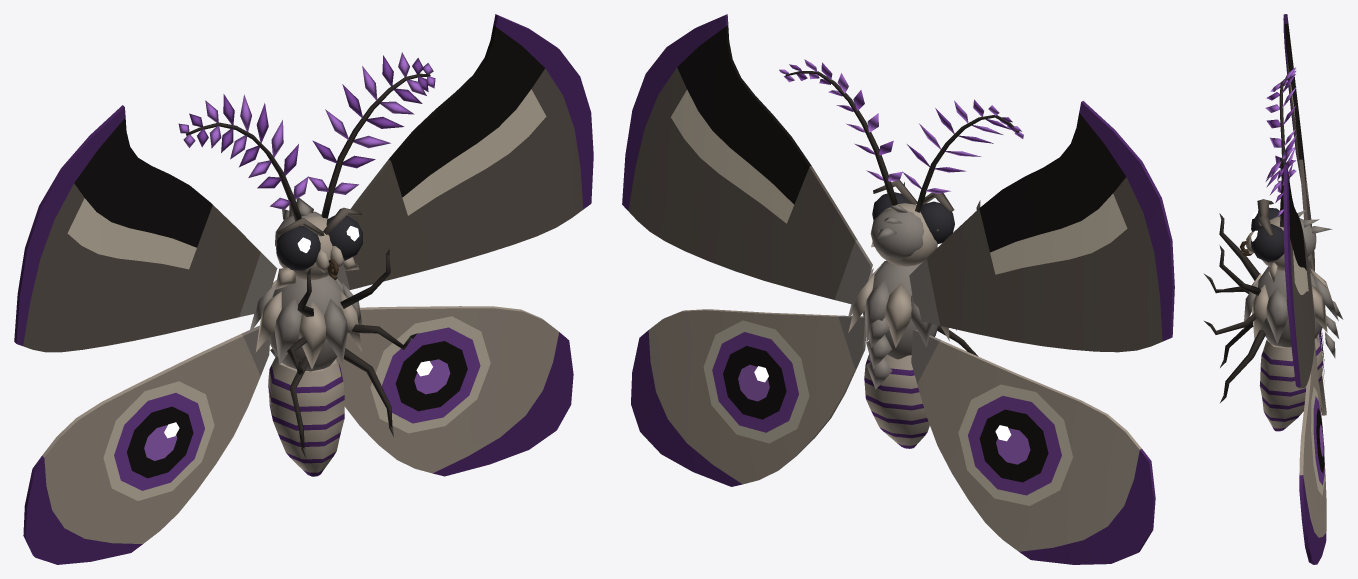
The model's file is moth-owl-wing.glb.
3 views of the same model, side by side, from view 1: azimuth 30°, elevation 25°; view 2: azimuth 150°, elevation 25°; view 3: azimuth 270°, elevation 25° (orthographic). The views are drawn at different scales.
Parts seen in each view (by area): view 1: glide_wing_0, glide_wing_1, body, pulse_abdomen, sway_feeler_l, sway_feeler_r, turn_head, blink_eye_r, blink_eye_l; view 2: glide_wing_1, glide_wing_0, body, pulse_abdomen, turn_head, sway_feeler_l, sway_feeler_r, blink_eye_r; view 3: glide_wing_0, body, pulse_abdomen, glide_wing_1, turn_head, sway_feeler_r, blink_eye_l, sway_feeler_l, blink_eye_r.
Part boxes in pixels (x1,y1,x2,y2): glide_wing_0: (336, 14, 593, 476); glide_wing_1: (14, 105, 277, 564); body: (250, 249, 417, 458); pulse_abdomen: (268, 355, 344, 476); sway_feeler_l: (308, 52, 435, 218); sway_feeler_r: (178, 94, 308, 221); turn_head: (275, 198, 362, 289); blink_eye_r: (276, 225, 320, 270); blink_eye_l: (326, 215, 362, 260); glide_wing_1: (909, 101, 1174, 564); glide_wing_0: (622, 14, 872, 486); body: (848, 182, 980, 389); pulse_abdomen: (864, 354, 929, 448); turn_head: (870, 180, 954, 266); sway_feeler_l: (779, 59, 902, 205); sway_feeler_r: (902, 99, 1023, 212); blink_eye_r: (920, 201, 954, 243); glide_wing_0: (1283, 164, 1326, 564); body: (1203, 213, 1343, 402); pulse_abdomen: (1259, 338, 1323, 431); glide_wing_1: (1283, 14, 1326, 415); turn_head: (1240, 199, 1332, 282); sway_feeler_r: (1265, 67, 1296, 215); blink_eye_l: (1251, 224, 1284, 262); sway_feeler_l: (1265, 134, 1296, 227); blink_eye_r: (1251, 207, 1280, 231).
Bounding box in the file's own units: 0.9958 × 0.7789 × 0.2538.
